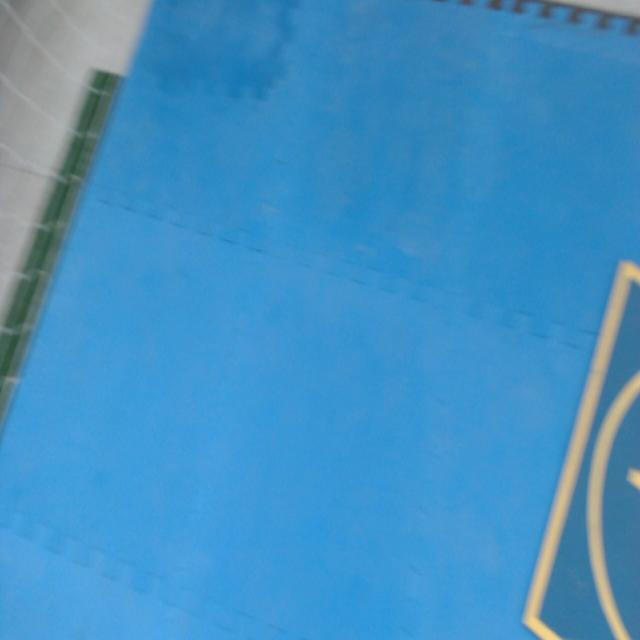base_pouso: (520, 260, 640, 639)
